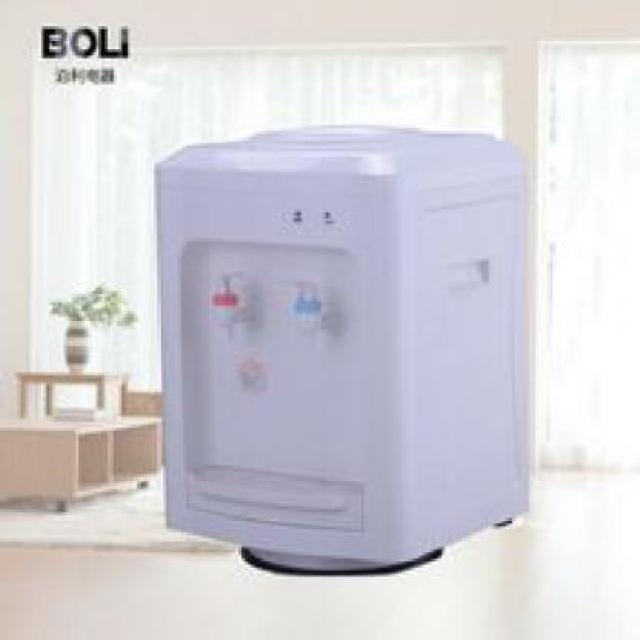cooler: (150, 124, 538, 570)
